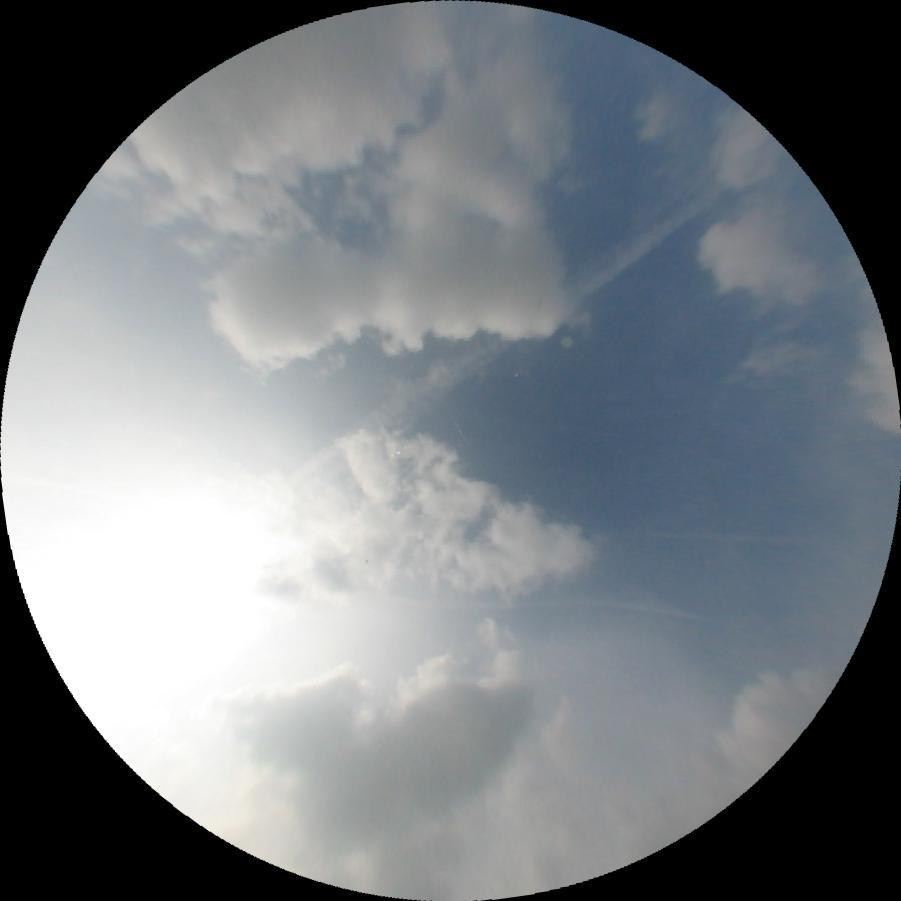contrail veryold: (282, 158, 727, 513), (592, 529, 825, 545)
unknow: (383, 592, 709, 617)
